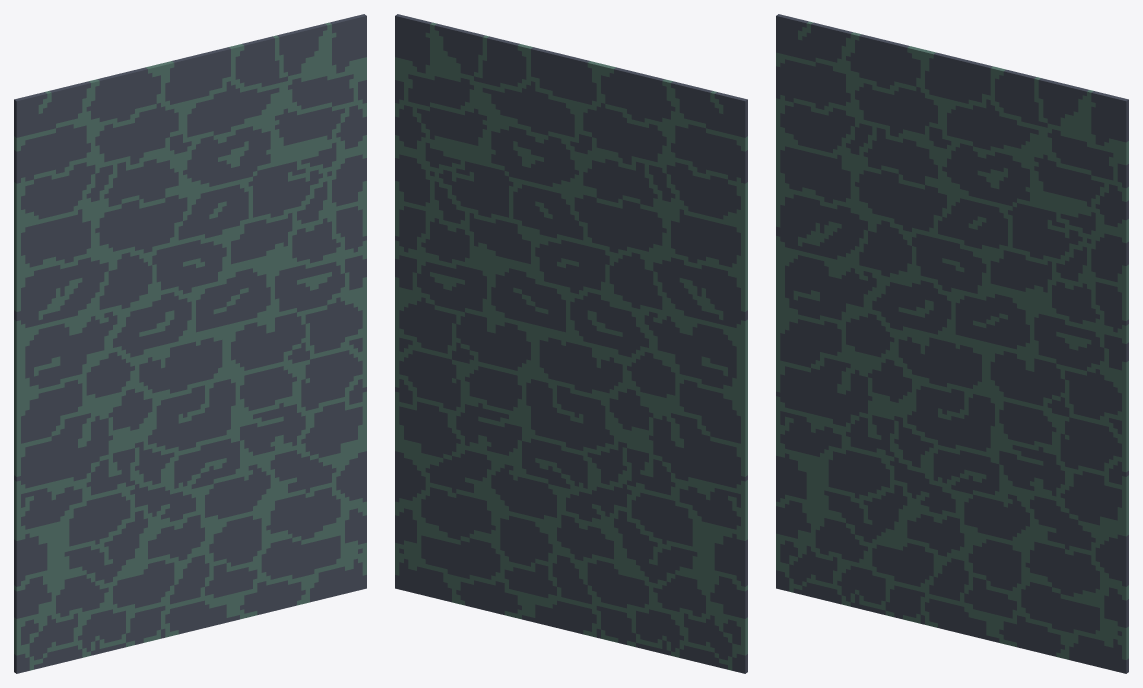
Rendered from paredAzul.obj.
3 views of the same model, side by side, from view 1: azimuth 30°, elevation 25°; view 2: azimuth 150°, elevation 25°; view 3: azimuth 330°, elevation 25° (orthographic).
Size of the model in its own units: 8 by 12.5 by 0.1.
